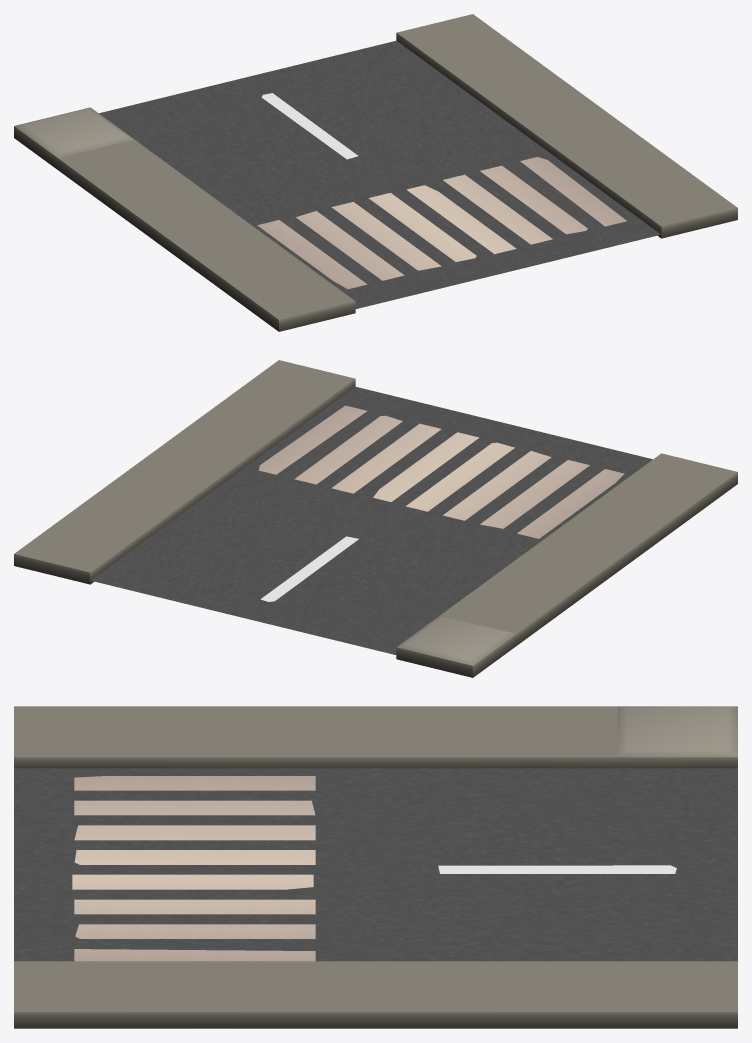
File: Road13.fbx
The picture shows the model from 3 angles, top to bottom: view 1: azimuth 30°, elevation 25°; view 2: azimuth 150°, elevation 25°; view 3: azimuth 270°, elevation 25°; orthographic projection. The views are drawn at different scales.
Parts seen in each view (by area): view 1: Road_1C; view 2: Road_1C; view 3: Road_1C.
Part boxes in pixels (box(x1,y1,x2,y2)): Road_1C: box(14, 14, 737, 331); Road_1C: box(14, 360, 737, 677); Road_1C: box(14, 706, 737, 1028).
Size of the model in its own units: 22423 by 666 by 22423.
